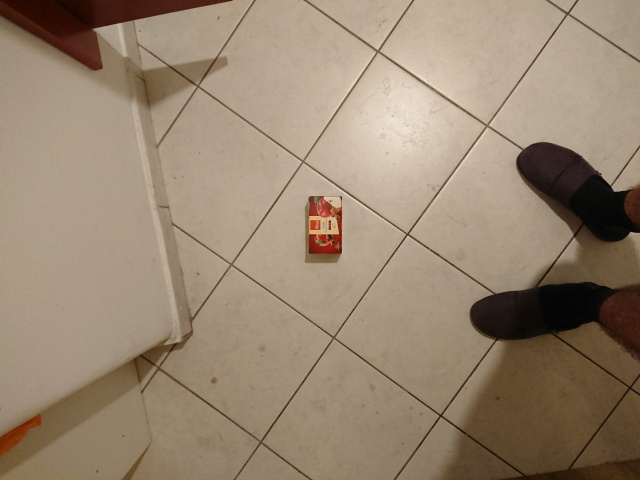Franck Apple Cinnamon Tea 60g: (305, 193, 345, 257)
